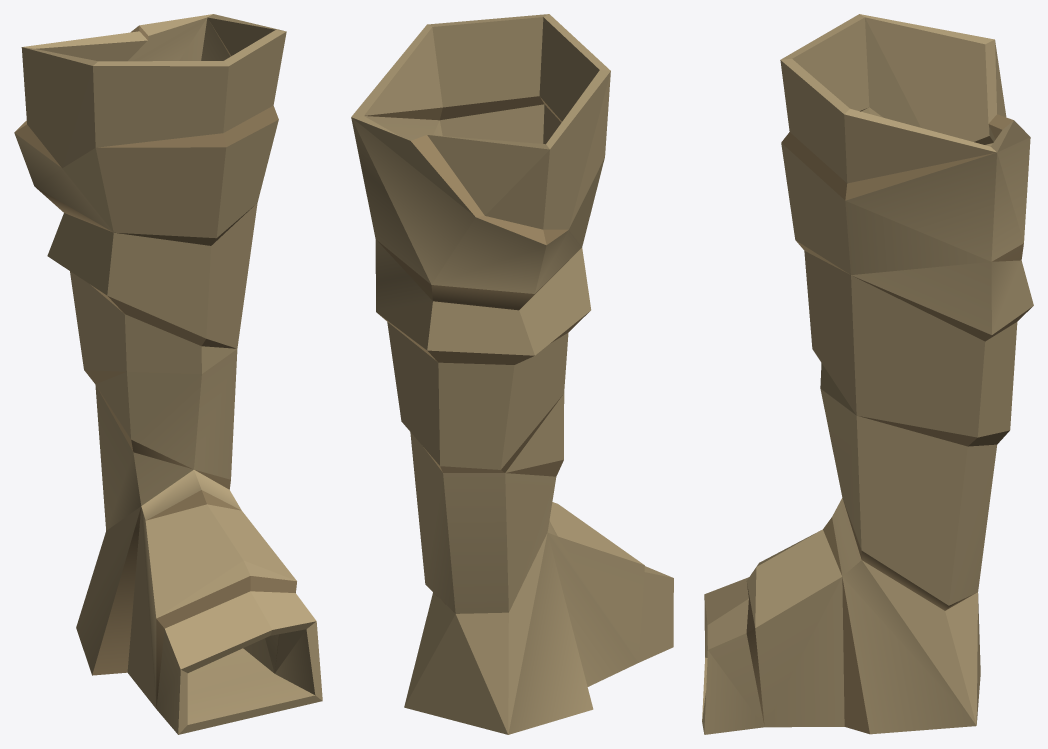
Rendered from Chr_LegRight_Female_03_Drop.fbx.
The picture shows the model from 3 angles, left to right: view 1: azimuth 30°, elevation 25°; view 2: azimuth 150°, elevation 25°; view 3: azimuth 270°, elevation 25°; orthographic projection. The views are drawn at different scales.
Visible parts, largest first — view 1: Chr_LegRight_Female_03_Static; view 2: Chr_LegRight_Female_03_Static; view 3: Chr_LegRight_Female_03_Static.
Boxes of the visible parts, left/top/right/bottom form: Chr_LegRight_Female_03_Static: left=14, top=14, right=322, bottom=734; Chr_LegRight_Female_03_Static: left=351, top=14, right=673, bottom=734; Chr_LegRight_Female_03_Static: left=702, top=14, right=1033, bottom=734.
Bounding box in the file's own units: 13.04 × 39.84 × 18.52.
